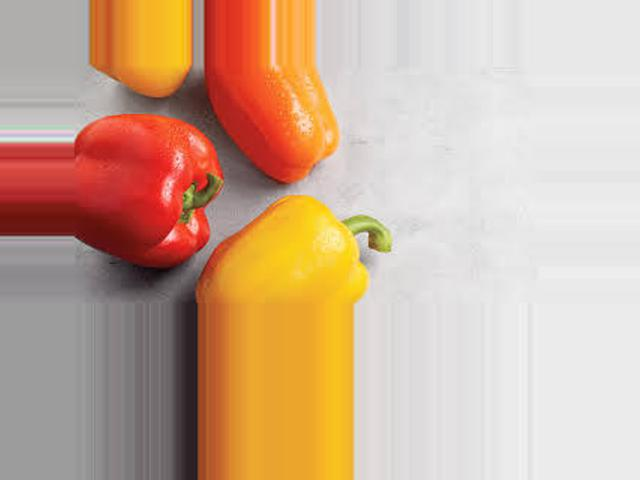bell_pepper: (76, 114, 216, 278)
